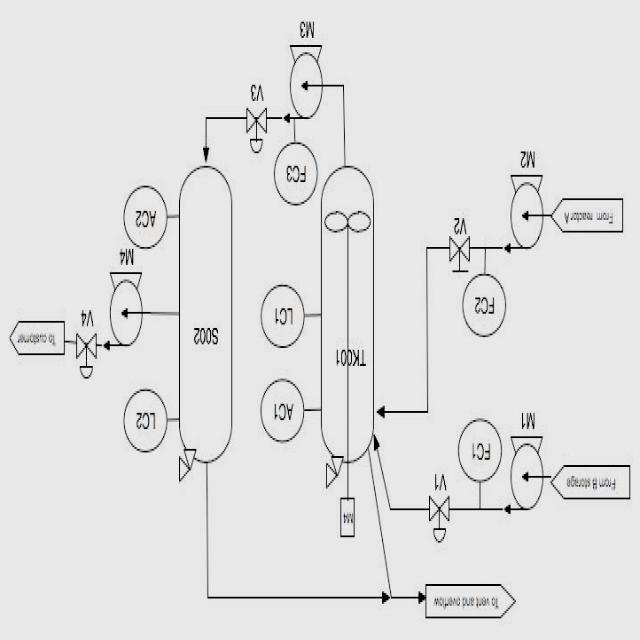Angle Valve: (324, 448, 348, 498), (177, 442, 199, 492)
Centrifugal Pump: (277, 39, 333, 132), (500, 172, 550, 262), (502, 431, 548, 528)
Hand Operated Gate Valve: (446, 230, 474, 276)
Pneumatic-Diaphragm Gate Valve: (422, 492, 456, 548), (74, 326, 100, 392), (246, 103, 268, 171)
